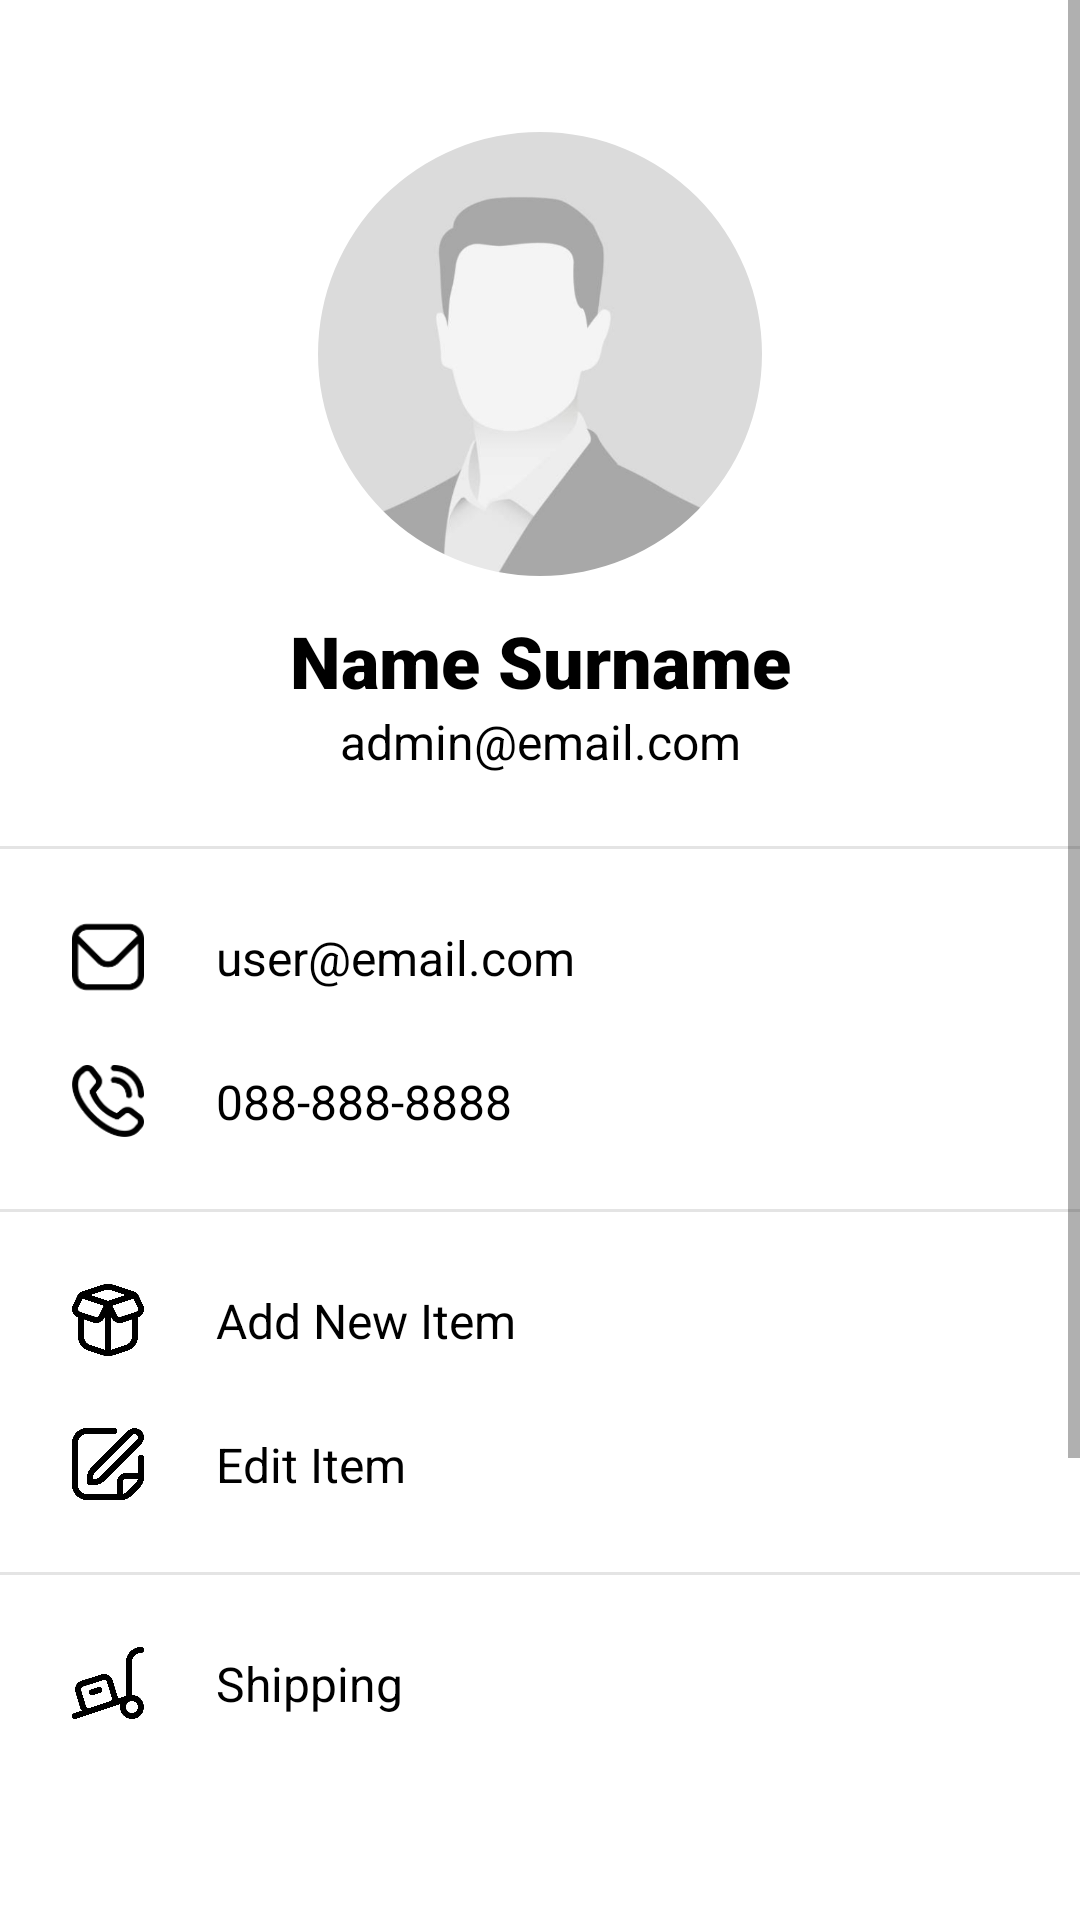

Point at icon controls on the screen. Image size 1080px x 1920px, points as (x=x, y=y).
box: (x=108, y=1320)
envelope: (x=108, y=957)
phone: (x=108, y=1101)
